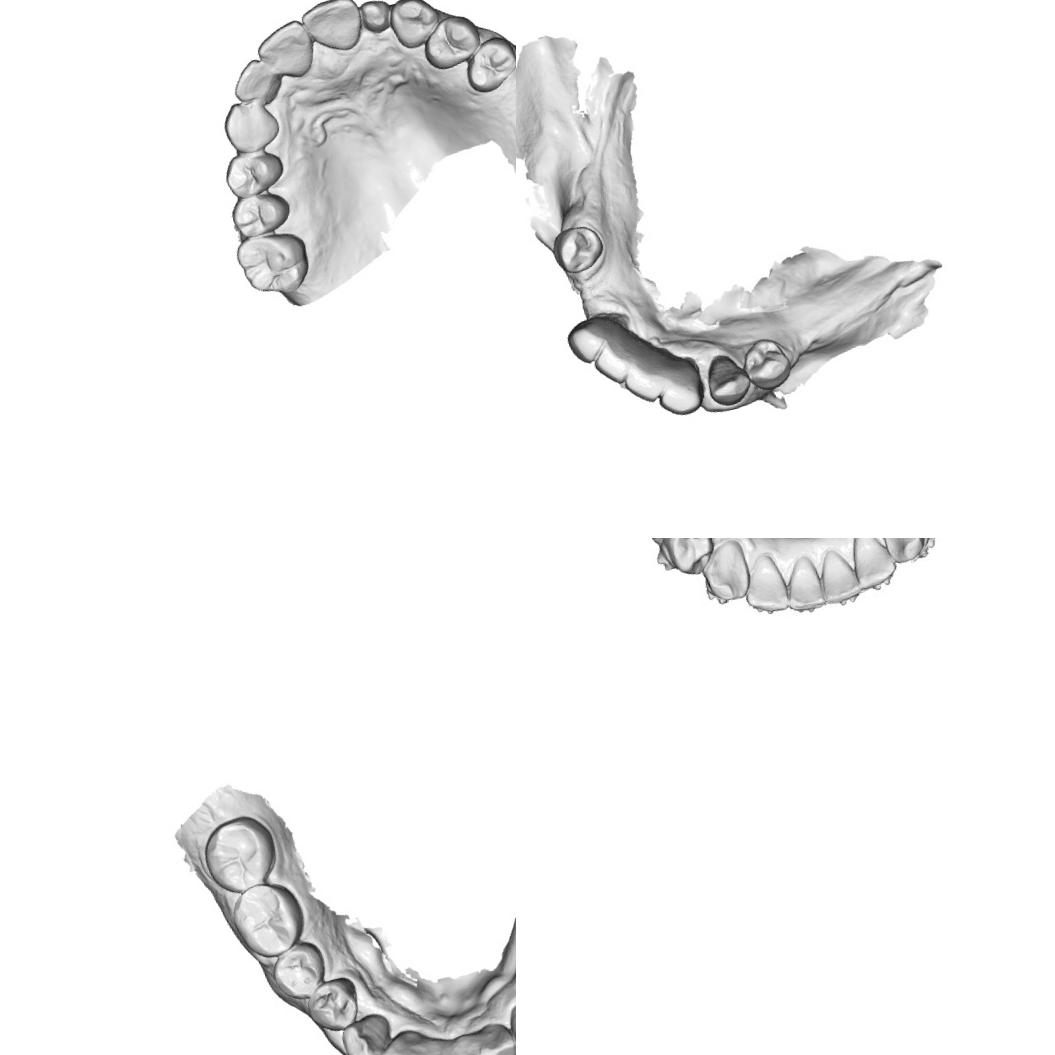canine: (696, 538, 763, 614), (218, 94, 284, 157), (698, 348, 758, 412), (384, 0, 445, 52), (333, 1009, 401, 1055), (875, 538, 935, 566), (501, 991, 516, 1055)
incisor: (251, 15, 320, 86), (296, 0, 370, 60), (650, 351, 708, 420), (560, 310, 626, 368), (740, 553, 793, 618), (614, 350, 672, 408), (227, 54, 286, 111), (814, 549, 866, 612), (843, 538, 903, 592), (588, 336, 647, 390), (779, 556, 828, 616), (471, 1007, 516, 1055), (370, 1018, 428, 1055), (407, 1018, 457, 1055), (439, 1023, 488, 1055), (356, 0, 395, 36)
molar: (194, 809, 284, 901), (226, 873, 311, 965), (233, 225, 318, 306)
premolar: (299, 970, 368, 1040), (265, 938, 333, 1009), (417, 10, 486, 74), (219, 143, 290, 202), (546, 218, 612, 280), (737, 331, 798, 396), (458, 31, 516, 97), (227, 186, 294, 241), (661, 538, 719, 580)
